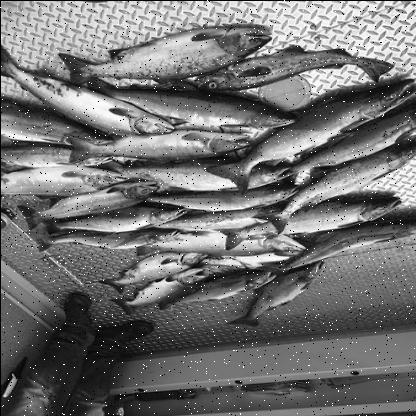fish: (211, 77, 415, 190), (252, 140, 415, 234), (1, 49, 177, 136), (84, 77, 300, 134), (68, 26, 278, 84), (214, 197, 404, 252), (194, 41, 396, 92), (258, 221, 415, 275), (223, 261, 322, 329), (20, 180, 160, 226), (110, 183, 300, 211), (64, 132, 249, 160), (44, 202, 186, 235), (125, 233, 308, 256), (158, 273, 272, 309), (33, 228, 183, 255), (118, 270, 206, 312), (96, 252, 200, 287)
